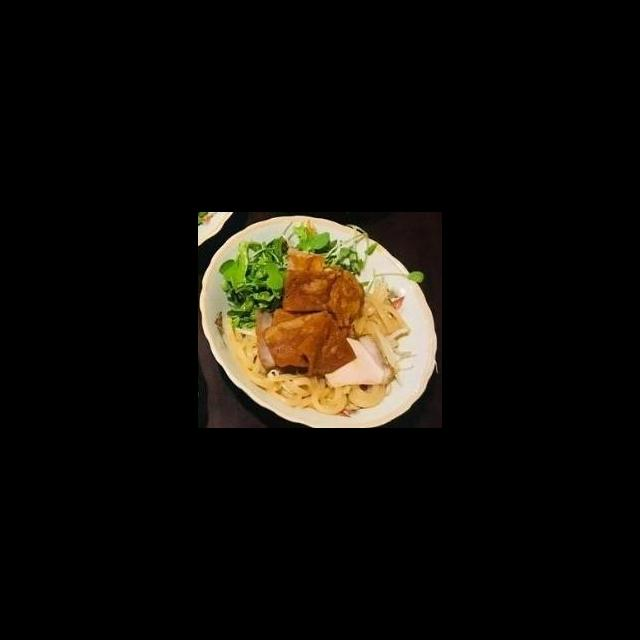banh da: (259, 306, 344, 372), (296, 314, 359, 379), (281, 264, 350, 314), (324, 267, 368, 332)
mi: (265, 369, 395, 417), (221, 316, 284, 394), (348, 277, 412, 342)
mi quang: (199, 234, 438, 419)
thit heo: (316, 331, 401, 390)
